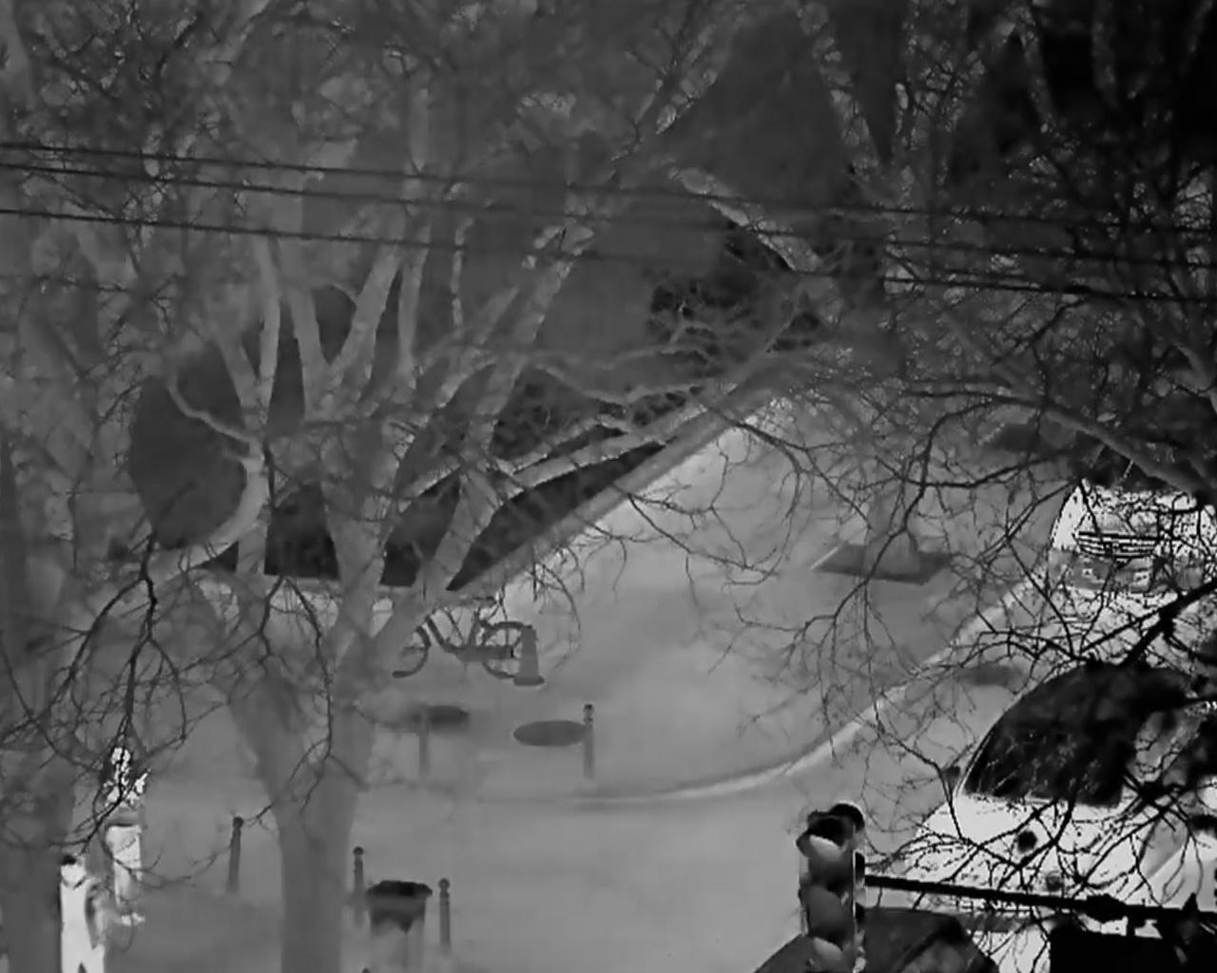person: (100, 748, 153, 926), (57, 851, 107, 973)
